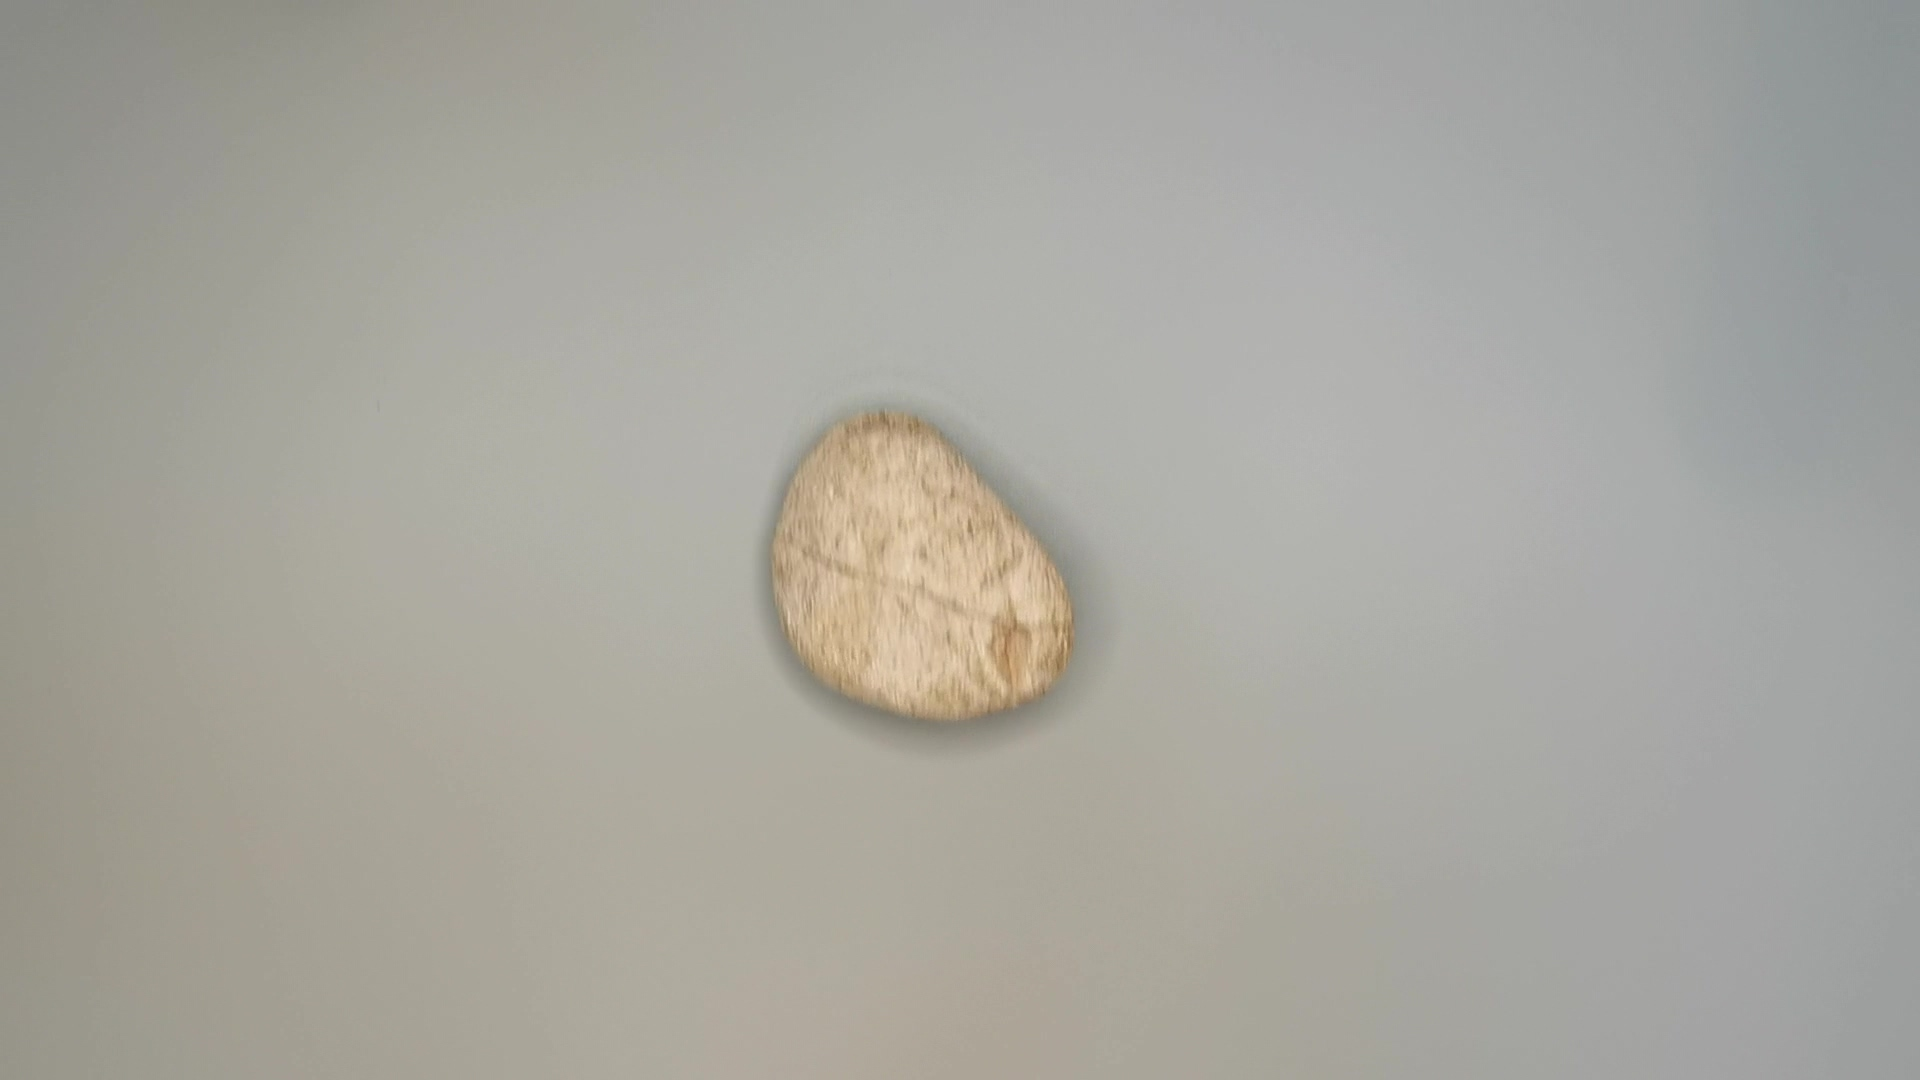ceramic: (769, 404, 1092, 731)
